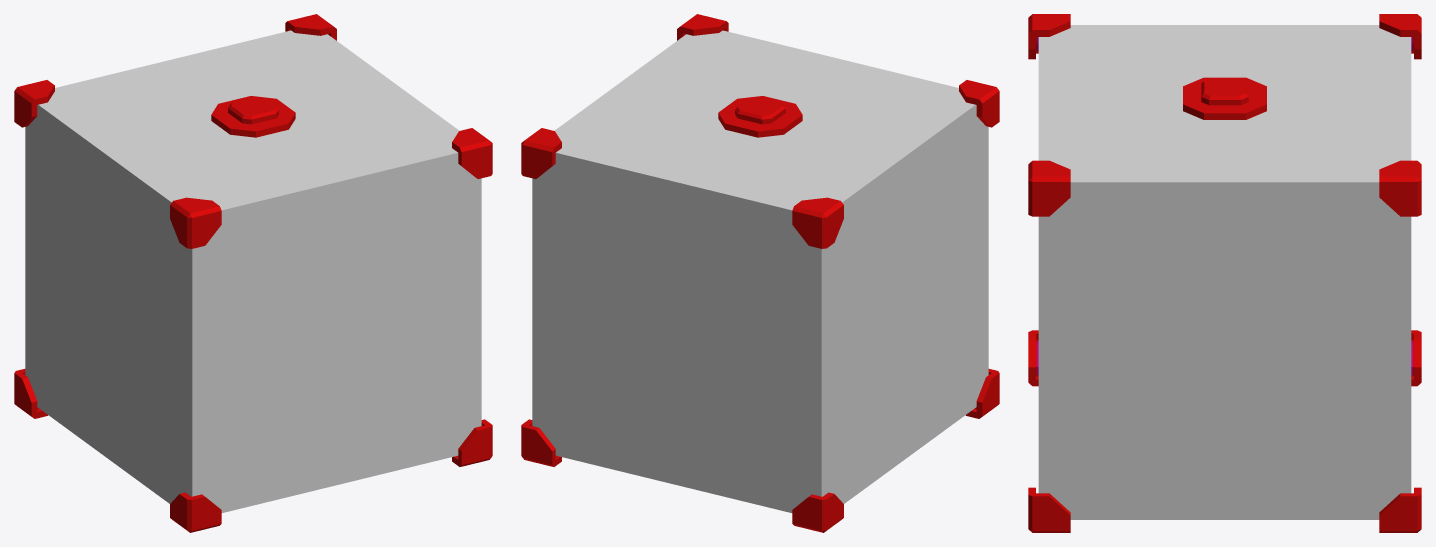
Rendered from MeCaisseQuiTombe_V1.FBX.
3 views of the same model, side by side, from view 1: azimuth 30°, elevation 25°; view 2: azimuth 150°, elevation 25°; view 3: azimuth 270°, elevation 25° (orthographic). The views are drawn at different scales.
Parts seen in each view (by area): view 1: Box001, Object002; view 2: Box001, Object002; view 3: Box001, Object002.
Part boxes in pixels (<box>): Box001: <box>25,30,481,512</box>; Object002: <box>14,14,492,532</box>; Box001: <box>532,30,988,512</box>; Object002: <box>521,14,999,532</box>; Box001: <box>1038,25,1411,519</box>; Object002: <box>1028,14,1421,532</box>.
Bounding box in the file's own units: 146 × 146 × 149.
